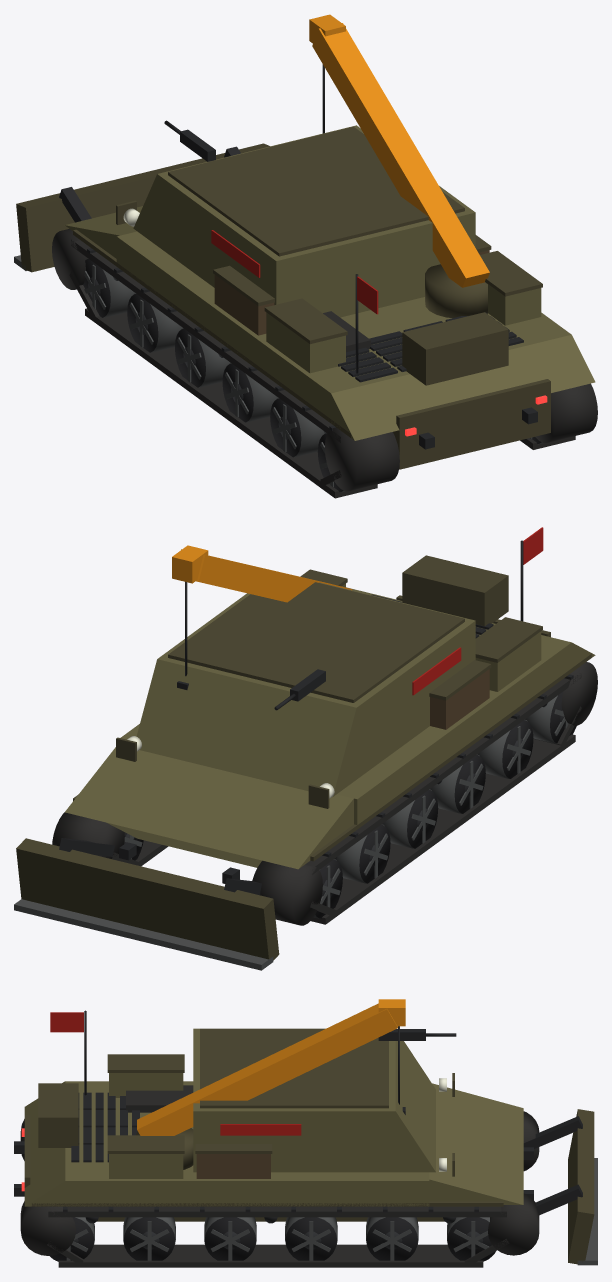
The model's file is Recovery_Red.fbx.
The picture shows the model from 3 angles, top to bottom: view 1: azimuth 30°, elevation 25°; view 2: azimuth 150°, elevation 25°; view 3: azimuth 270°, elevation 25°; orthographic projection. The views are drawn at different scales.
Parts seen in each view (by area): view 1: SuperRoof, Superstructure, UpperHull, CraneBoom, RearSlope, Winch, DozerBlade, LowerHull, TrackBottomL, RearPlate, TrackWrapRearL, TrackTopL (+24 smaller); view 2: SuperRoof, SuperNose, Glacis, DozerBlade, UpperHull, Superstructure, Winch, TrackBottomL, BladeEdge, TrackTopL, TrackWrapFrontL, CraneBoom (+22 smaller); view 3: UpperHull, Superstructure, SuperRoof, Glacis, CraneBoom, TrackBottomR, TrackTopR, SuperNose, DozerBlade, RearSlope, Winch, TrackWrapRearR (+26 smaller).
Boxes of the visible parts, x1,y1,x2,y2 form: SuperRoof: [168, 126, 464, 256]; Superstructure: [157, 125, 475, 317]; UpperHull: [116, 231, 571, 420]; CraneBoom: [312, 23, 489, 287]; RearSlope: [331, 334, 595, 440]; Winch: [402, 312, 508, 385]; DozerBlade: [16, 143, 269, 272]; LowerHull: [393, 393, 550, 468]; TrackBottomL: [85, 308, 377, 498]; RearPlate: [396, 379, 550, 469]; TrackWrapRearL: [324, 427, 399, 491]; TrackTopL: [71, 239, 340, 442]; SuperRoof: [168, 582, 464, 702]; SuperNose: [136, 659, 356, 796]; Glacis: [65, 747, 353, 869]; DozerBlade: [16, 838, 279, 960]; UpperHull: [120, 587, 571, 825]; Superstructure: [157, 582, 475, 779]; Winch: [402, 555, 508, 626]; TrackBottomL: [311, 734, 575, 924]; BladeEdge: [14, 899, 273, 970]; TrackTopL: [305, 673, 581, 874]; TrackWrapFrontL: [252, 860, 322, 925]; CraneBoom: [181, 549, 352, 602]; UpperHull: [65, 1081, 429, 1206]; Superstructure: [193, 1028, 395, 1172]; SuperRoof: [200, 1028, 388, 1108]; Glacis: [429, 1083, 523, 1204]; CraneBoom: [137, 1003, 397, 1135]; TrackBottomR: [58, 1244, 483, 1267]; TrackTopR: [48, 1206, 506, 1217]; SuperNose: [395, 1041, 435, 1172]; DozerBlade: [568, 1109, 594, 1264]; RearSlope: [24, 1081, 65, 1206]; Winch: [38, 1083, 78, 1147]; TrackWrapRearR: [20, 1201, 75, 1255].
Bounding box in the file's own units: 360 × 866 × 397.
